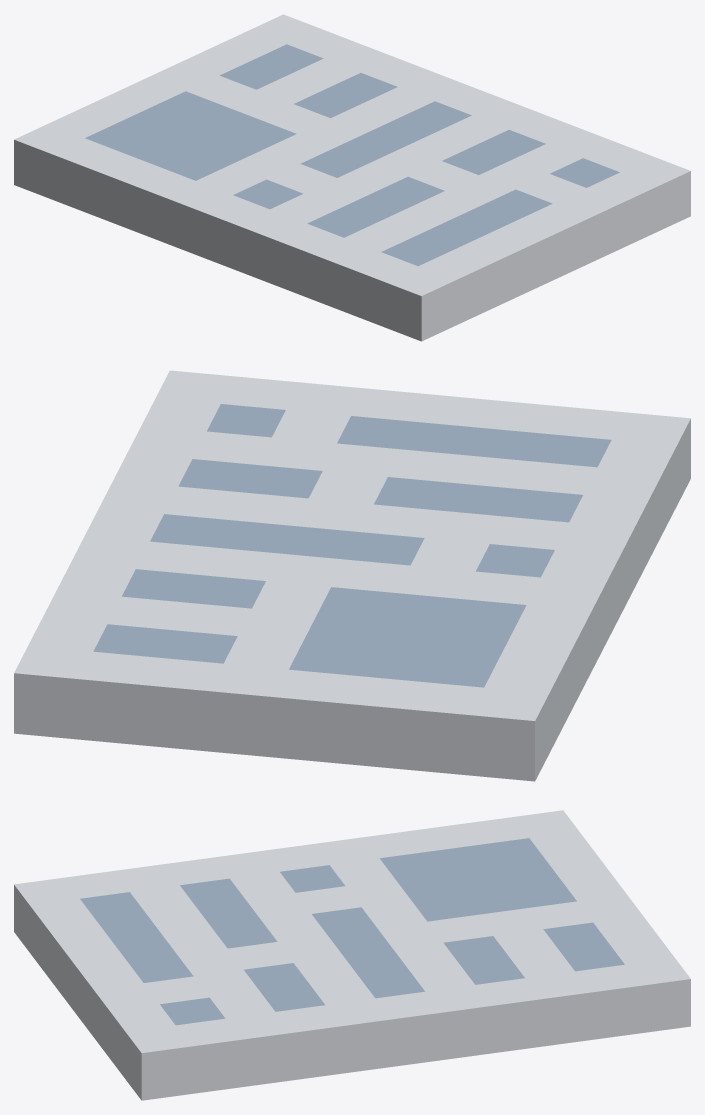
File: papers.001_0_lev1_lev3.glb
3 renders of one model, top to bottom at view 1: azimuth 30°, elevation 25°; view 2: azimuth 150°, elevation 25°; view 3: azimuth 270°, elevation 25°, orthographic. The views are drawn at different scales.
Visible parts, largest first — view 1: papers.001_0_lev1_lev3; view 2: papers.001_0_lev1_lev3; view 3: papers.001_0_lev1_lev3.
Part boxes in pixels (box(x1,y1,x2,y2)): papers.001_0_lev1_lev3: box(14, 14, 690, 341); papers.001_0_lev1_lev3: box(14, 370, 690, 781); papers.001_0_lev1_lev3: box(14, 810, 690, 1100).
Bounding box in the file's own units: 0.6558 × 0.0598 × 0.7721.
Materials: 1 (1 with a texture image).
